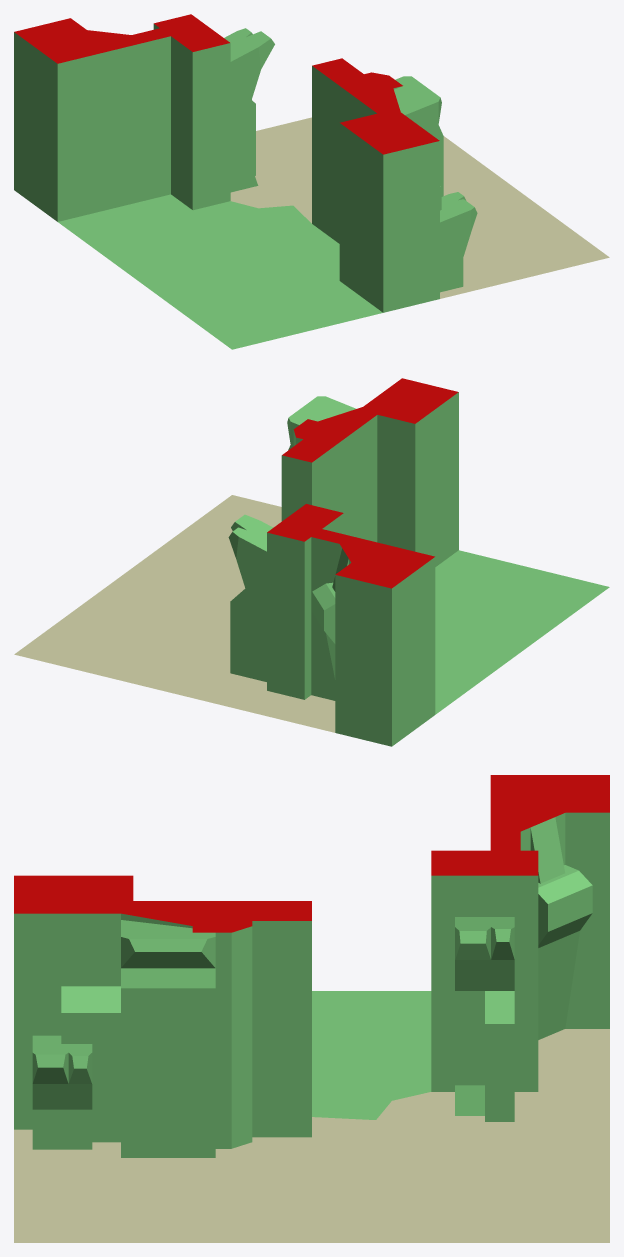
File: x_oo_ground_29_wall1_rmstrd.fbx
The picture shows the model from 3 angles, top to bottom: view 1: azimuth 30°, elevation 25°; view 2: azimuth 150°, elevation 25°; view 3: azimuth 270°, elevation 25°; orthographic projection. The views are drawn at different scales.
Visible parts, largest first — view 1: x_skala_dont_crash_60_1_rmstrd1; view 2: x_skala_dont_crash_60_1_rmstrd1; view 3: x_skala_dont_crash_60_1_rmstrd1.
Boxes of the visible parts, x1=… form: x_skala_dont_crash_60_1_rmstrd1: x1=14, y1=14, x2=609, y2=349; x_skala_dont_crash_60_1_rmstrd1: x1=14, y1=378, x2=609, y2=746; x_skala_dont_crash_60_1_rmstrd1: x1=14, y1=775, x2=609, y2=1242.
Size of the model in its own units: 10 by 4.06 by 10.
